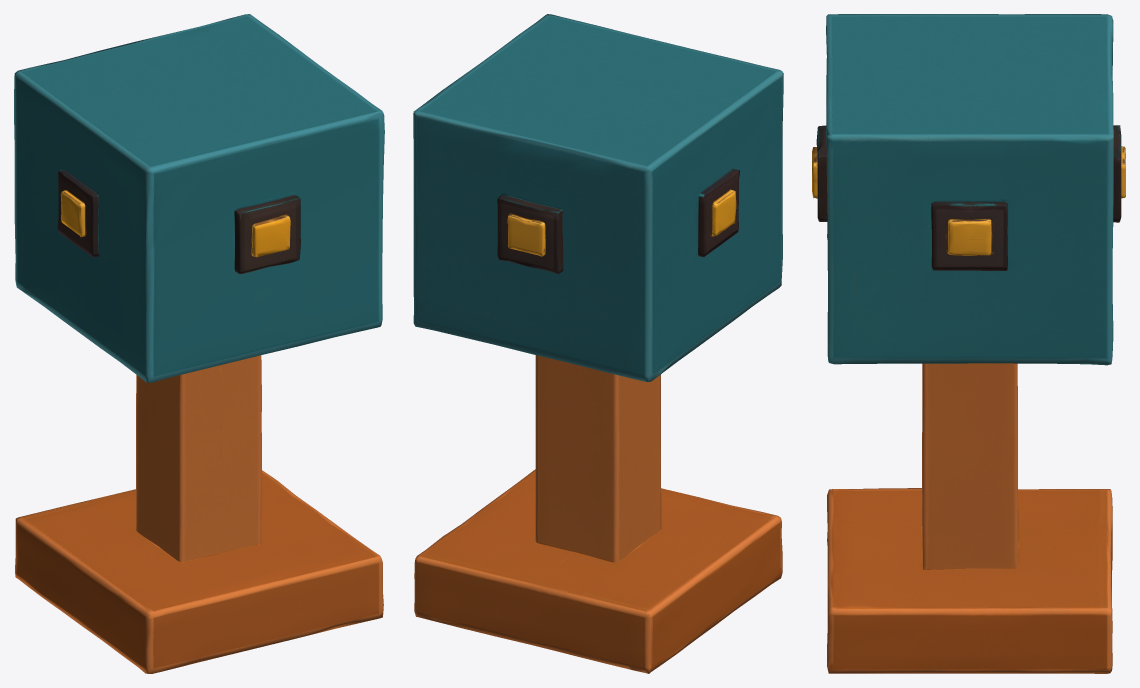
The model's file is powerRelay.glb.
3 renders of one model, left to right at view 1: azimuth 30°, elevation 25°; view 2: azimuth 150°, elevation 25°; view 3: azimuth 270°, elevation 25°, orthographic. The views are drawn at different scales.
Size of the model in its own units: 0.5332 by 1 by 0.5293.
1 material, 1 textured.
